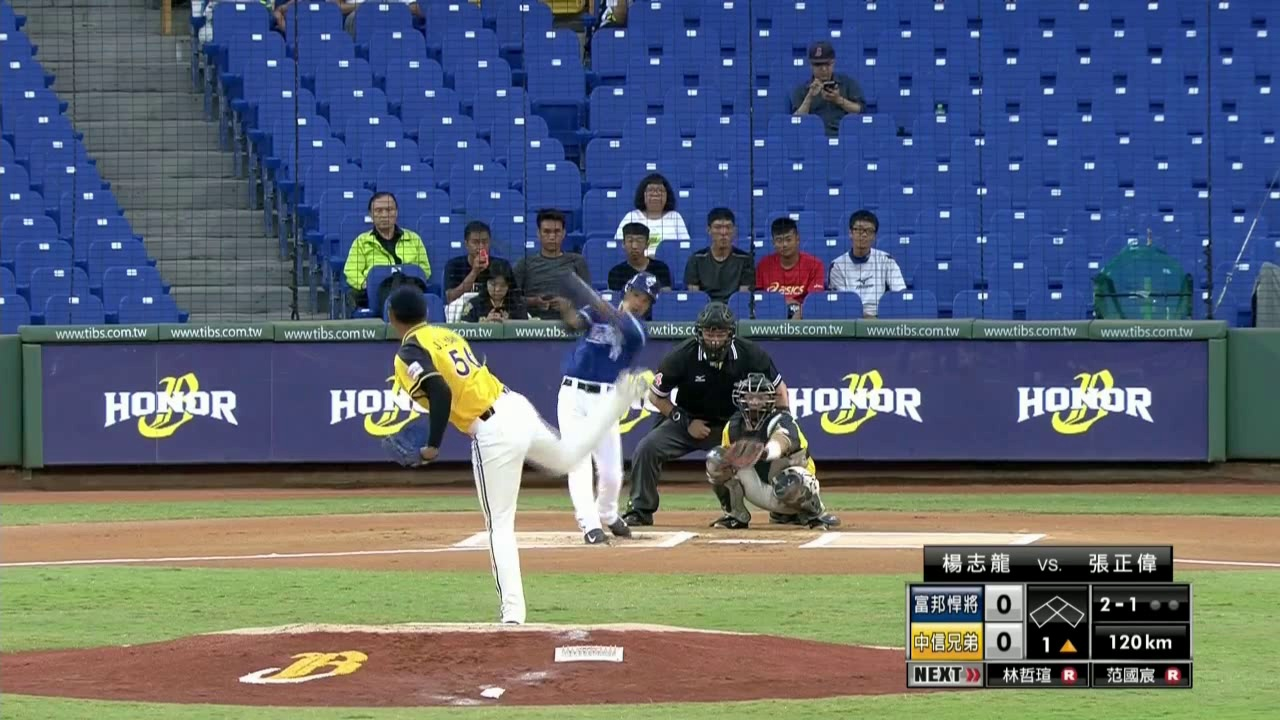base: (1029, 591, 1086, 629)
out: (1147, 596, 1181, 612)
score1: (985, 585, 1023, 622)
score2: (985, 624, 1023, 658)
session: (1037, 634, 1081, 655)
speed: (1101, 630, 1175, 653)
strikeball: (1096, 593, 1140, 613)
